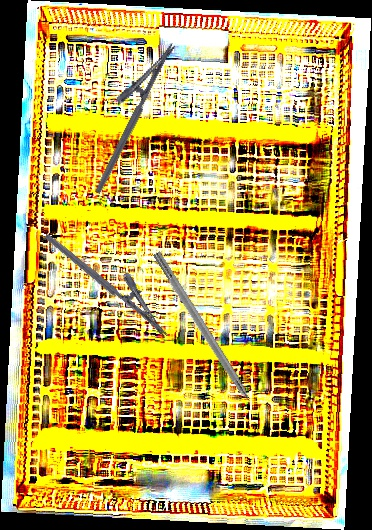Hook Surgical: (150, 250, 264, 422)
Needle Holder: (43, 216, 183, 340), (73, 32, 178, 195)
